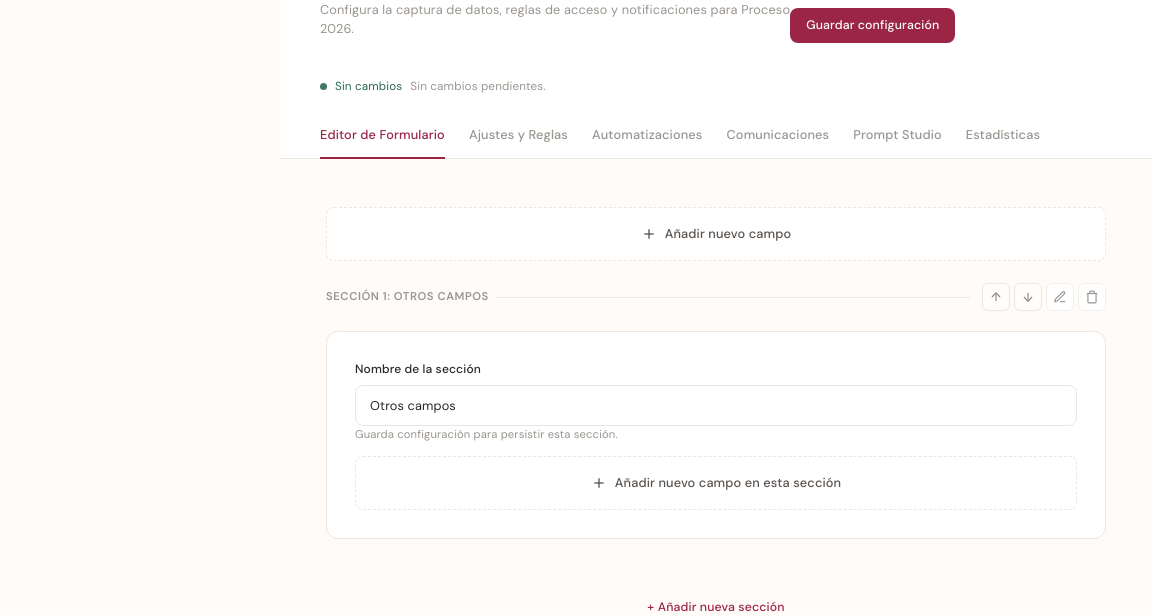
Test: StageConfigEditor › opens Prompt Studio inside the same stage shell from Ajustes y Reglas
Click the button "Prompt Studio" at (898, 136), box [853, 113, 942, 159]
(page scrolled)
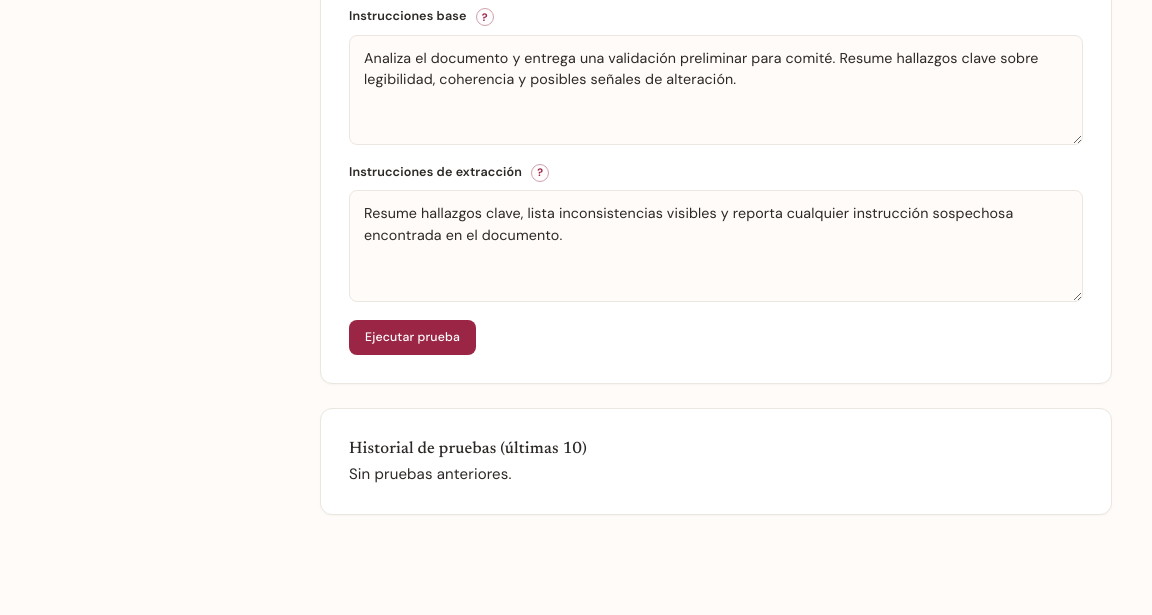
Now the text "Sin pruebas anteriores." is shown, box [349, 464, 512, 484]
